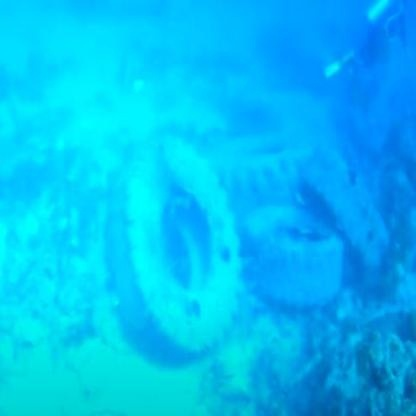tire: (87, 113, 243, 358), (249, 171, 343, 320), (318, 160, 385, 261)
